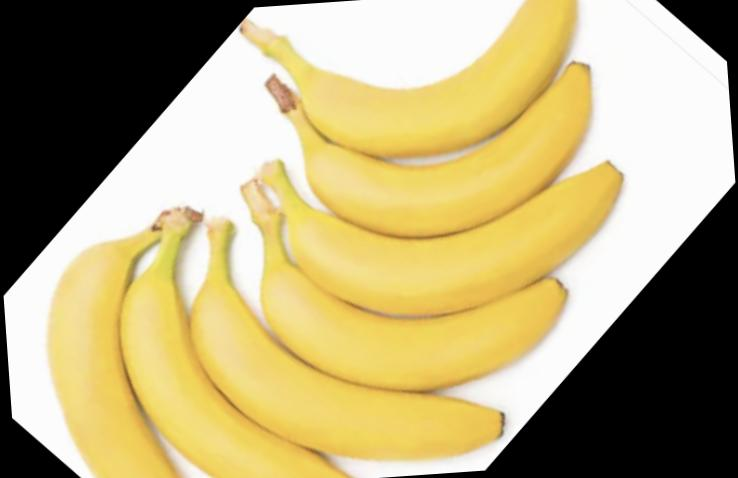Banana Ripe: (0, 0, 674, 478)
